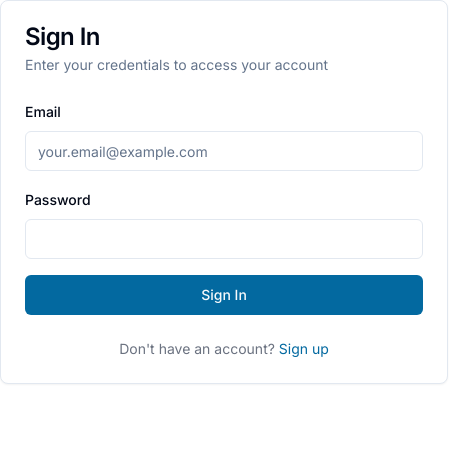
it: Authentication Components › SignIn Component › displays error message when sign in fails
The width and height of the screenshot is (465, 471).
Step 1. Type "test@example.com" into the field labelled "Email" → (224, 151), box [25,131,423,171]
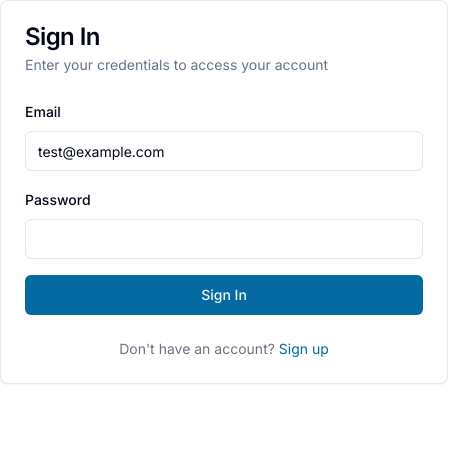
Step 2. Type "wrongpassword" into the password field labelled "Password" → (224, 239), box [25,219,423,259]
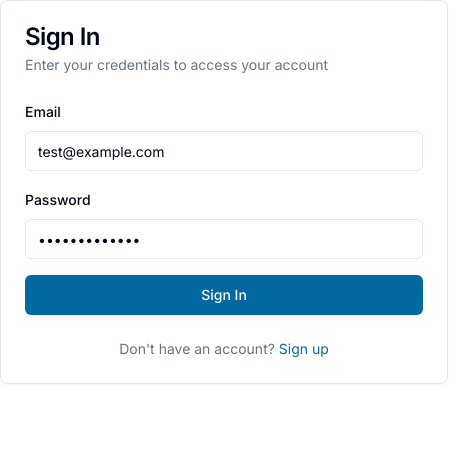
Step 3. Click the button "Sign In" → (224, 295), box [25,275,423,315]
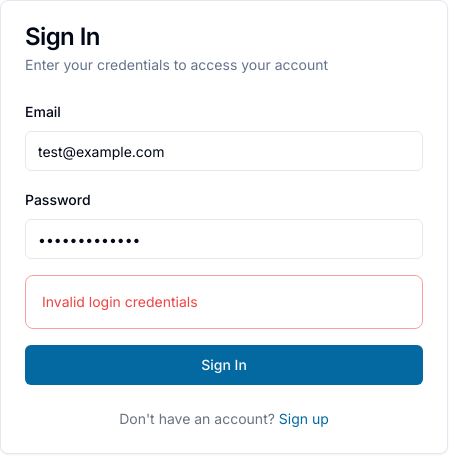
Now the text "Invalid login credentials" is shown, box [42,293,198,310]
